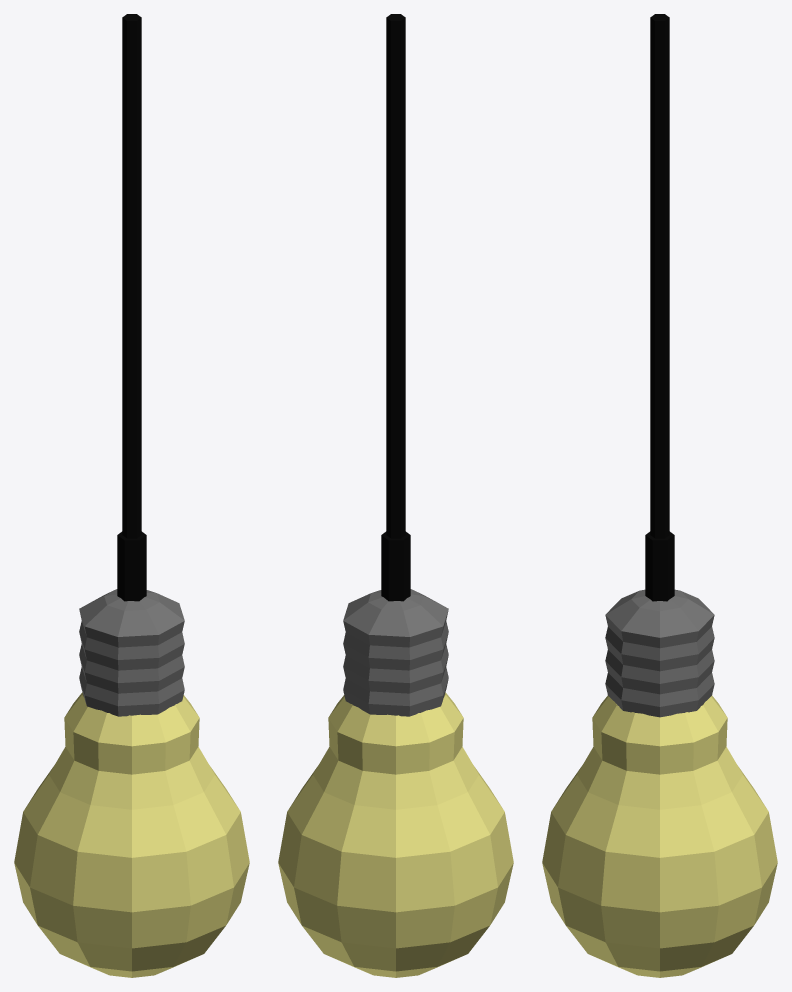
The model's file is Ampoule_gamejam.fbx.
3 renders of one model, left to right at view 1: azimuth 30°, elevation 25°; view 2: azimuth 150°, elevation 25°; view 3: azimuth 270°, elevation 25°, orthographic.
Visible parts, largest first — view 1: Ampoule; view 2: Ampoule; view 3: Ampoule.
Boxes of the visible parts, x1,y1,x2,y2 form: Ampoule: [14, 14, 249, 977]; Ampoule: [278, 14, 513, 977]; Ampoule: [542, 14, 777, 977].
Size of the model in its own units: 9 by 40 by 9.
